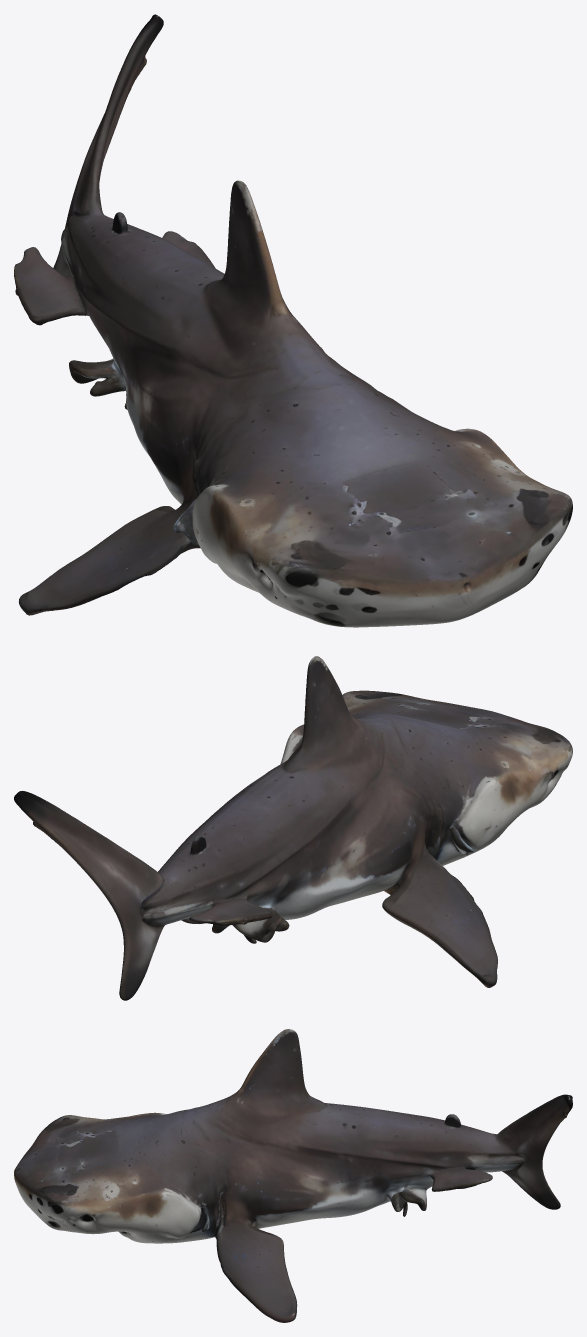
File: hammer_e2.glb
3 renders of one model, top to bottom at view 1: azimuth 30°, elevation 25°; view 2: azimuth 150°, elevation 25°; view 3: azimuth 270°, elevation 25°, orthographic. The views are drawn at different scales.
Parts seen in each view (by area): view 1: tripo_node_ed06cec4-8fb8-4a99-b2e5-e346c2829b83; view 2: tripo_node_ed06cec4-8fb8-4a99-b2e5-e346c2829b83; view 3: tripo_node_ed06cec4-8fb8-4a99-b2e5-e346c2829b83.
Boxes of the visible parts, bbox=[...] form: tripo_node_ed06cec4-8fb8-4a99-b2e5-e346c2829b83: bbox=[14, 14, 572, 627]; tripo_node_ed06cec4-8fb8-4a99-b2e5-e346c2829b83: bbox=[14, 656, 572, 1000]; tripo_node_ed06cec4-8fb8-4a99-b2e5-e346c2829b83: bbox=[14, 1029, 572, 1322].
Size of the model in its own units: 0.5461 by 0.461 by 1.
1 material, 1 textured.
